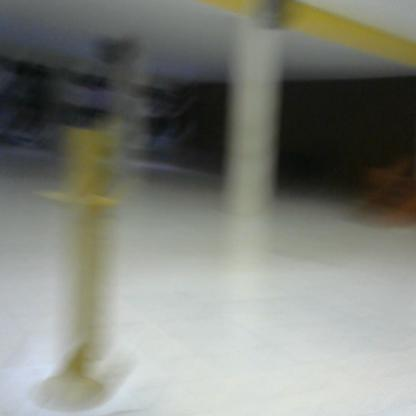pole: (35, 120, 139, 407)
